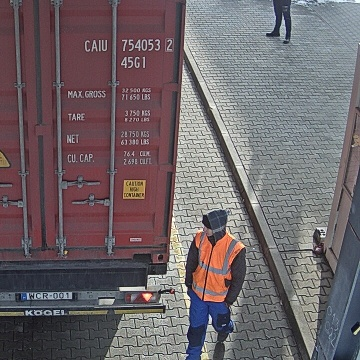serial_id: (85, 39, 172, 51)
